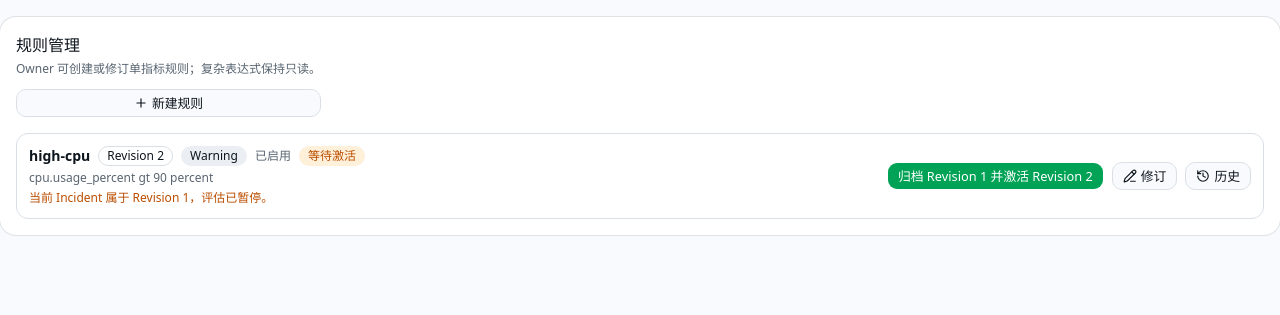
it: AlertRuleManagement › requires an explicit activation when current Incident belongs to an older revision
Expected: the text "当前 Incident 属于 Revision 1，评估已暂停。" is shown, x1=29 y1=189 x2=273 y2=206
Click the button "归档 Revision 1 并激活 Revision 2".
click(995, 176)  # box x1=887 y1=162 x2=1104 y2=190
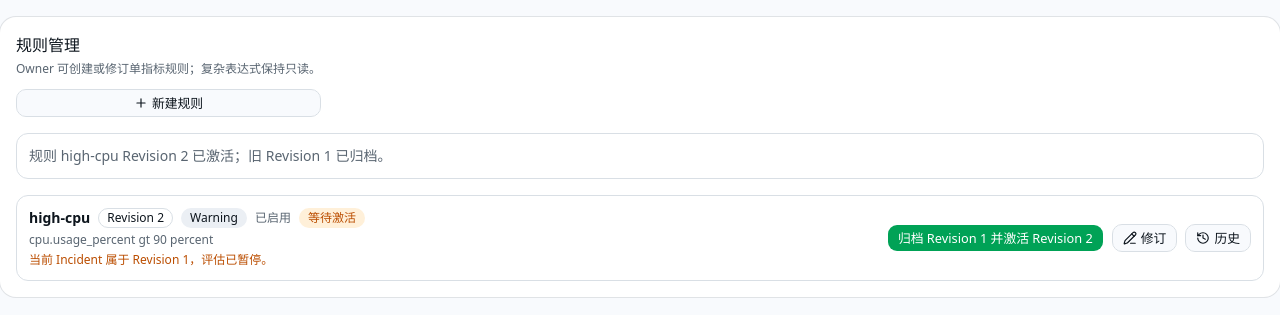
Result: the text "规则 high-cpu Revision 2 已激活；旧 Revision 1 已归档。" is shown at x1=16 y1=133 x2=1264 y2=179
